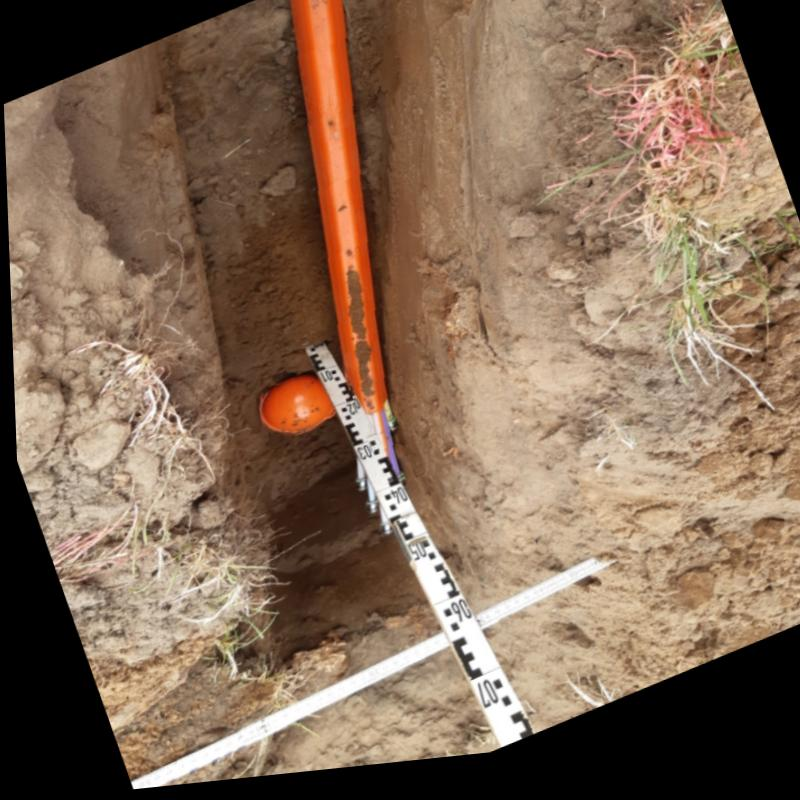Kugelmarker: (259, 378, 332, 441)
Orang-Speednetrohrchen: (290, 0, 398, 487)
